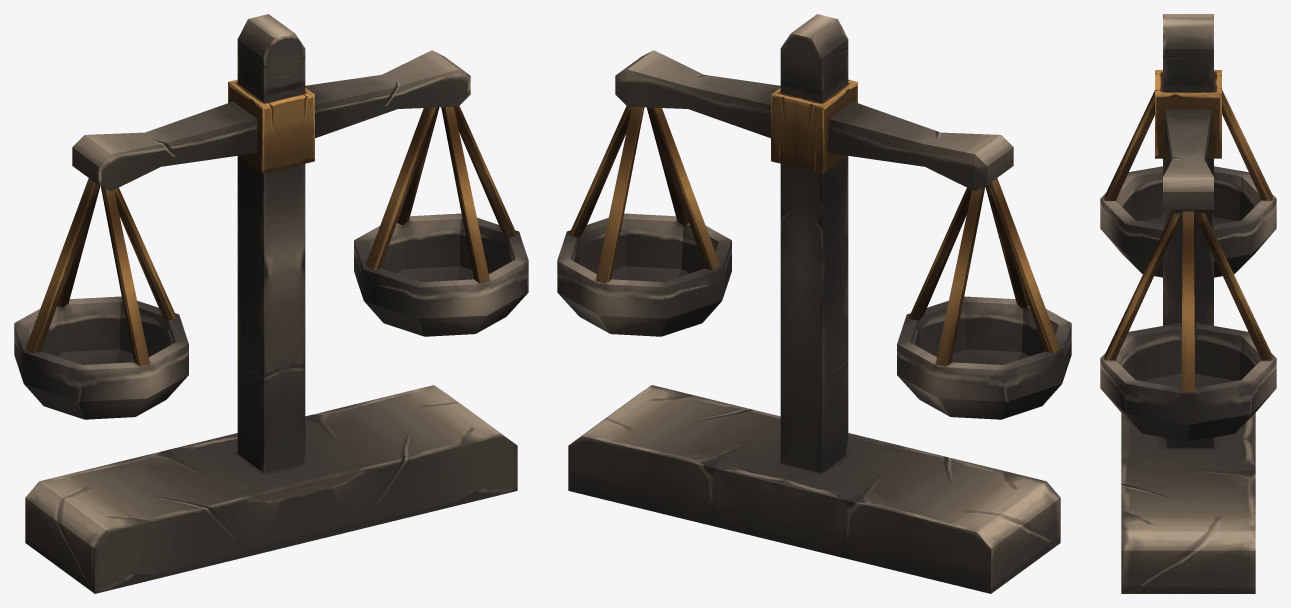
File: 87_Pan balance.FBX
3 renders of one model, left to right at view 1: azimuth 30°, elevation 25°; view 2: azimuth 150°, elevation 25°; view 3: azimuth 270°, elevation 25°, orthographic. The views are drawn at different scales.
Parts seen in each view (by area): view 1: Box018; view 2: Box018; view 3: Box018.
Boxes of the visible parts, <box> form: Box018: <box>14,14,528,593</box>; Box018: <box>557,14,1071,593</box>; Box018: <box>1100,14,1276,593</box>.
Size of the model in its own units: 47.31 by 44.78 by 15.15.
